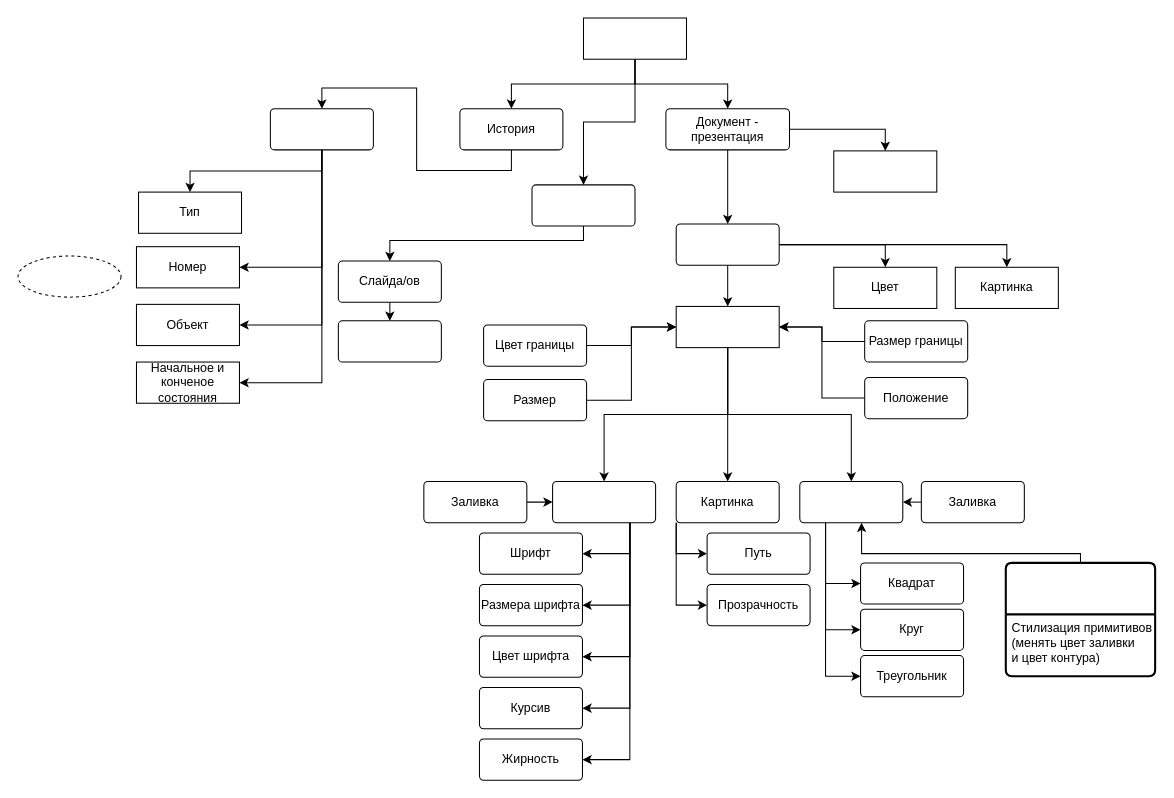
The diagram is 1174 pixels wide and 798 high, and some of its shapes have lost their labels. Each missing label, with the box of its shape:
Возможности: (1004, 561, 1156, 677)
Выделенение: (531, 184, 635, 226)
Действие: (269, 108, 373, 150)
Записывает любое изм.: (17, 255, 121, 297)
Название: (833, 150, 937, 192)
Объекта/ов: (337, 320, 441, 362)
Объекты: (675, 305, 779, 348)
Примитивы: (799, 480, 903, 523)
Редактор: (582, 17, 686, 59)
Слайд: (675, 223, 779, 265)
Текстовый: (552, 480, 656, 523)
